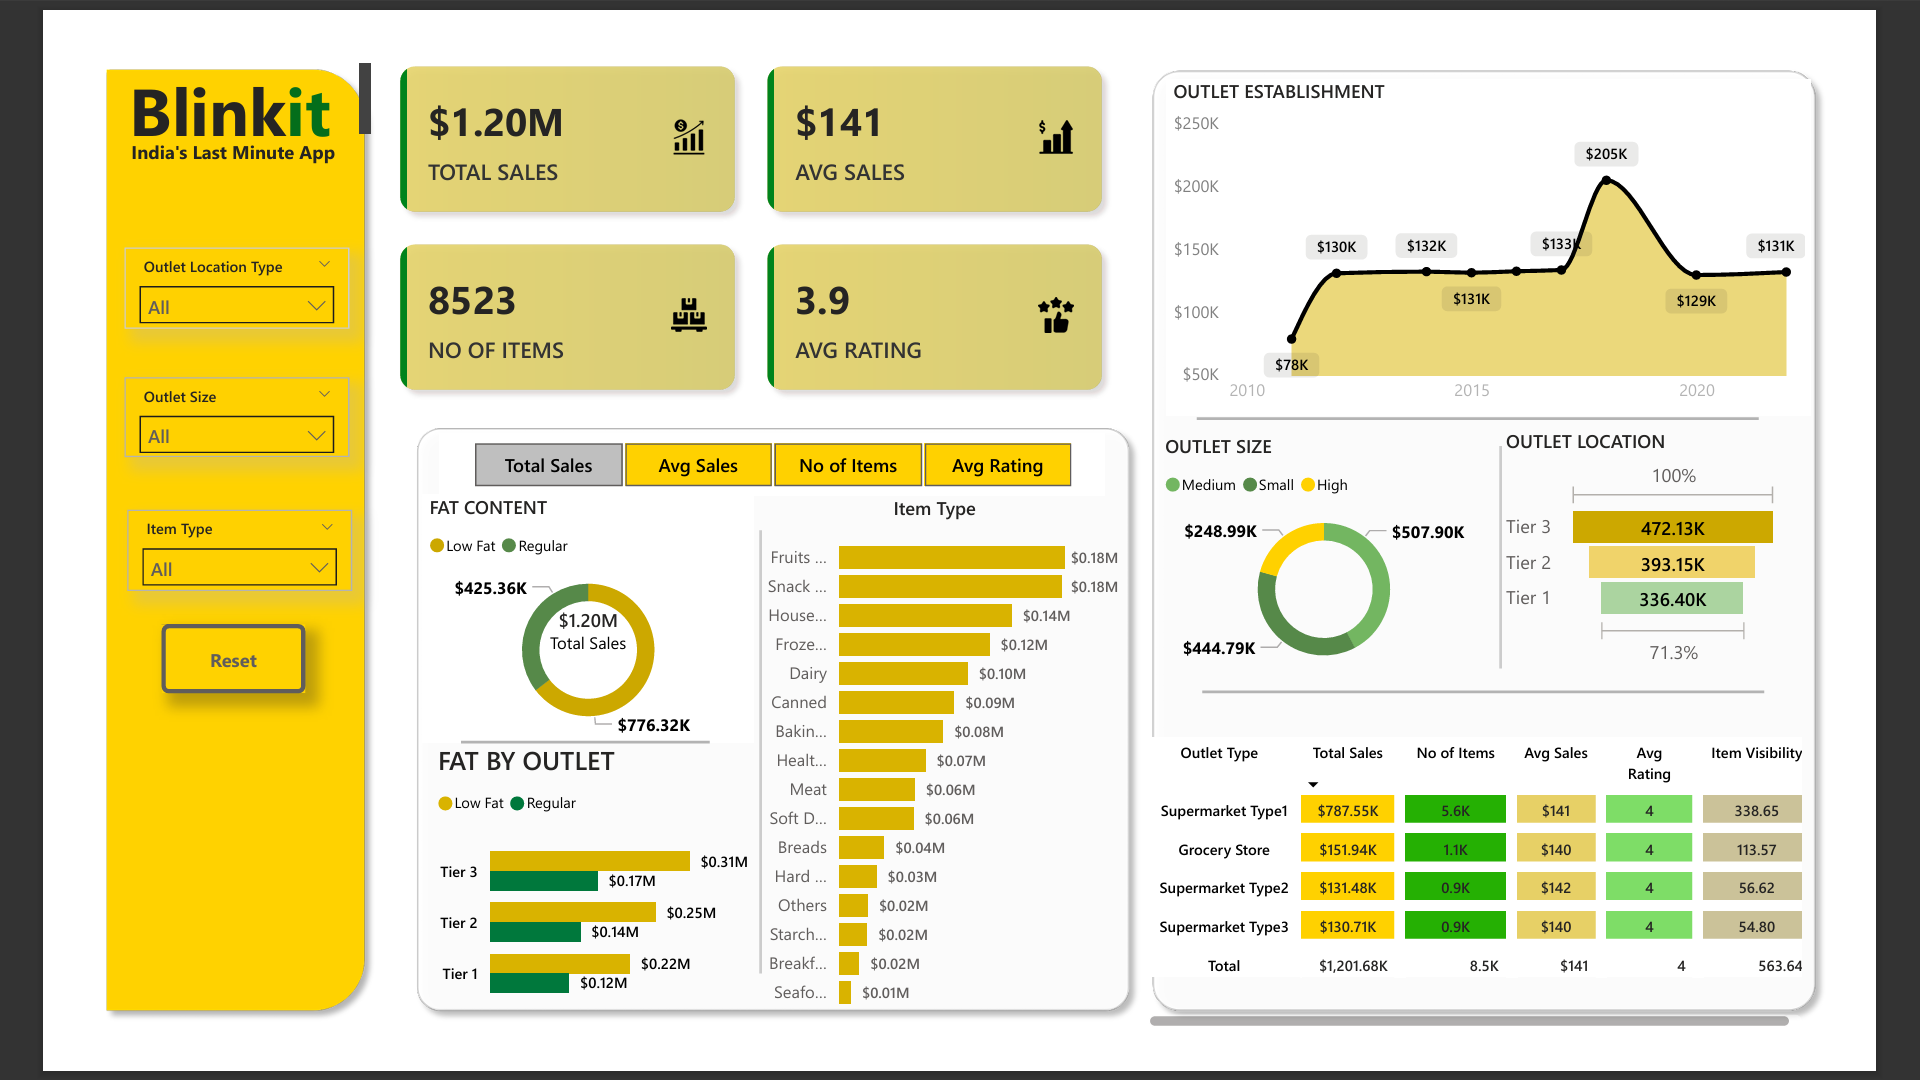

This screenshot's page, from the dashboard's own definition file:
{"tool":"powerbi","page":{"name":"Page 1","canvas":[1280,720],"ordinal":0},"visuals":[{"type":"shape","box":[13.3,10,205,700],"z":0},{"type":"textbox","box":[13.3,10,205,66.7],"z":1000},{"type":"textbox","box":[35,65,165,56.7],"z":2000},{"type":"cardVisual","fields":{"Data":["BlinkIT Grocery Data.Total Sales","BlinkIT Grocery Data.Avg Sales","BlinkIT Grocery Data.No of Items","BlinkIT Grocery Data.Avg Rating"]},"box":[218,0,542.1,269.5],"z":3000},{"type":"shape","box":[238.3,270,533.3,440],"z":4000},{"type":"donutChart","title":"FAT CONTENT","fields":{"Y":["BlinkIT Grocery Data.Total Sales"],"Category":["BlinkIT Grocery Data.Item Fat Content"]},"box":[251.4,327.1,239.2,180.2],"z":5000},{"type":"slicer","fields":{"Values":["Metrics.Metrics"]},"box":[263.3,283.3,481.7,45],"z":6000},{"type":"cardVisual","fields":{"Data":["BlinkIT Grocery Data.Total Sales"]},"box":[308.3,388.3,126.7,65],"z":7000},{"type":"clusteredBarChart","title":"FAT BY OUTLET","fields":{"Y":["BlinkIT Grocery Data.Total Sales"],"Category":["BlinkIT Grocery Data.Outlet Location Type"],"Series":["BlinkIT Grocery Data.Item Fat Content"]},"box":[256.7,506.7,235,203.3],"z":8000},{"type":"shape","box":[278.6,499.7,180.2,13.6],"z":9000},{"type":"shape","box":[486.1,352.8,19.7,321],"z":10000},{"type":"barChart","title":"Item Type","fields":{"Y":["BlinkIT Grocery Data.Total Sales"],"Category":["BlinkIT Grocery Data.Item Type"]},"box":[486.1,327.1,274.1,383.1],"z":11000},{"type":"shape","box":[770.7,10.6,498.2,699.6],"z":12000},{"type":"lineChart","title":"OUTLET ESTABLISHMENT","fields":{"Y":["BlinkIT Grocery Data.Total Sales"],"Category":["BlinkIT Grocery Data.Outlet Establishment Year"]},"box":[790.4,25.7,466.4,243.8],"z":13000},{"type":"shape","box":[811.6,265,407.3,13.6],"z":14000},{"type":"donutChart","title":"OUTLET SIZE","fields":{"Y":["BlinkIT Grocery Data.Total Sales"],"Category":["BlinkIT Grocery Data.Outlet Size"]},"box":[784.4,283.2,239.2,180.2],"z":15000},{"type":"shape","box":[1023.6,292.2,16.7,160.5],"z":16000},{"type":"funnel","title":"OUTLET LOCATION","fields":{"Y":["Sum(BlinkIT Grocery Data.Sales)"],"Category":["BlinkIT Grocery Data.Outlet Location Type"]},"box":[1031.2,278.6,207.4,177.2],"z":17000},{"type":"shape","box":[816.2,463.3,407.3,13.6],"z":18000},{"type":"pivotTable","fields":{"Rows":["BlinkIT Grocery Data.Outlet Type"],"Values":["BlinkIT Grocery Data.Total Sales","BlinkIT Grocery Data.No of Items","BlinkIT Grocery Data.Avg Sales","BlinkIT Grocery Data.Avg Rating","Sum(BlinkIT Grocery Data.Item Visibility)"]},"box":[771.7,498.3,483,220],"z":19000},{"type":"slicer","fields":{"Values":["BlinkIT Grocery Data.Outlet Location Type"]},"box":[35,148.3,163.3,58.3],"z":20000},{"type":"slicer","fields":{"Values":["BlinkIT Grocery Data.Outlet Size"]},"box":[35,241.7,163.3,58.3],"z":21000},{"type":"slicer","fields":{"Values":["BlinkIT Grocery Data.Item Type"]},"box":[36.7,338.3,163.3,58.3],"z":22000},{"type":"actionButton","box":[62.4,421.4,103.9,49.1],"z":22001}]}

Visuals, with their boxes in screenshot pixels (x1, y1, x2, y2), scaled from the page's 1280x720 canvas onto the 1920x1080 screenshot:
shape: box=[20, 15, 327, 1065]
textbox: box=[20, 15, 327, 115]
textbox: box=[52, 98, 300, 183]
cardVisual - BlinkIT Grocery Data.Total Sales x BlinkIT Grocery Data.Avg Sales: box=[327, 0, 1140, 404]
shape: box=[357, 405, 1157, 1065]
"FAT CONTENT" donutChart: box=[377, 491, 736, 761]
slicer - Metrics.Metrics: box=[395, 425, 1118, 492]
cardVisual - BlinkIT Grocery Data.Total Sales: box=[462, 582, 652, 680]
"FAT BY OUTLET" clusteredBarChart: box=[385, 760, 738, 1065]
shape: box=[418, 750, 688, 770]
shape: box=[729, 529, 759, 1011]
"Item Type" barChart: box=[729, 491, 1140, 1065]
shape: box=[1156, 16, 1903, 1065]
"OUTLET ESTABLISHMENT" lineChart: box=[1186, 39, 1885, 404]
shape: box=[1217, 398, 1828, 418]
"OUTLET SIZE" donutChart: box=[1177, 425, 1535, 695]
shape: box=[1535, 438, 1560, 679]
"OUTLET LOCATION" funnel: box=[1547, 418, 1858, 684]
shape: box=[1224, 695, 1835, 715]
pivotTable - BlinkIT Grocery Data.Outlet Type x BlinkIT Grocery Data.Total Sales: box=[1158, 747, 1882, 1077]
slicer - BlinkIT Grocery Data.Outlet Location Type: box=[52, 222, 297, 310]
slicer - BlinkIT Grocery Data.Outlet Size: box=[52, 363, 297, 450]
slicer - BlinkIT Grocery Data.Item Type: box=[55, 507, 300, 595]
actionButton: box=[94, 632, 249, 706]
